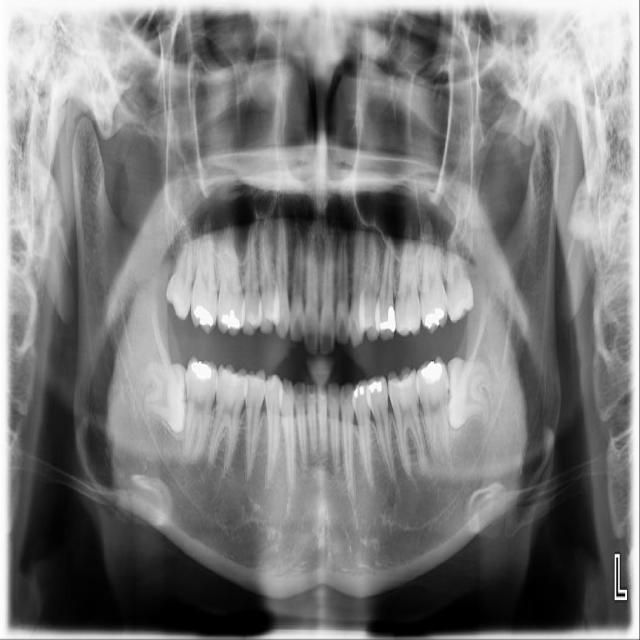Filling: (418, 360, 443, 384), (423, 306, 445, 330), (217, 308, 242, 329), (378, 305, 397, 332), (192, 306, 214, 329), (191, 361, 214, 380), (367, 380, 383, 394), (352, 384, 365, 399)
impacted tooth: (447, 358, 496, 427), (140, 363, 185, 432)
